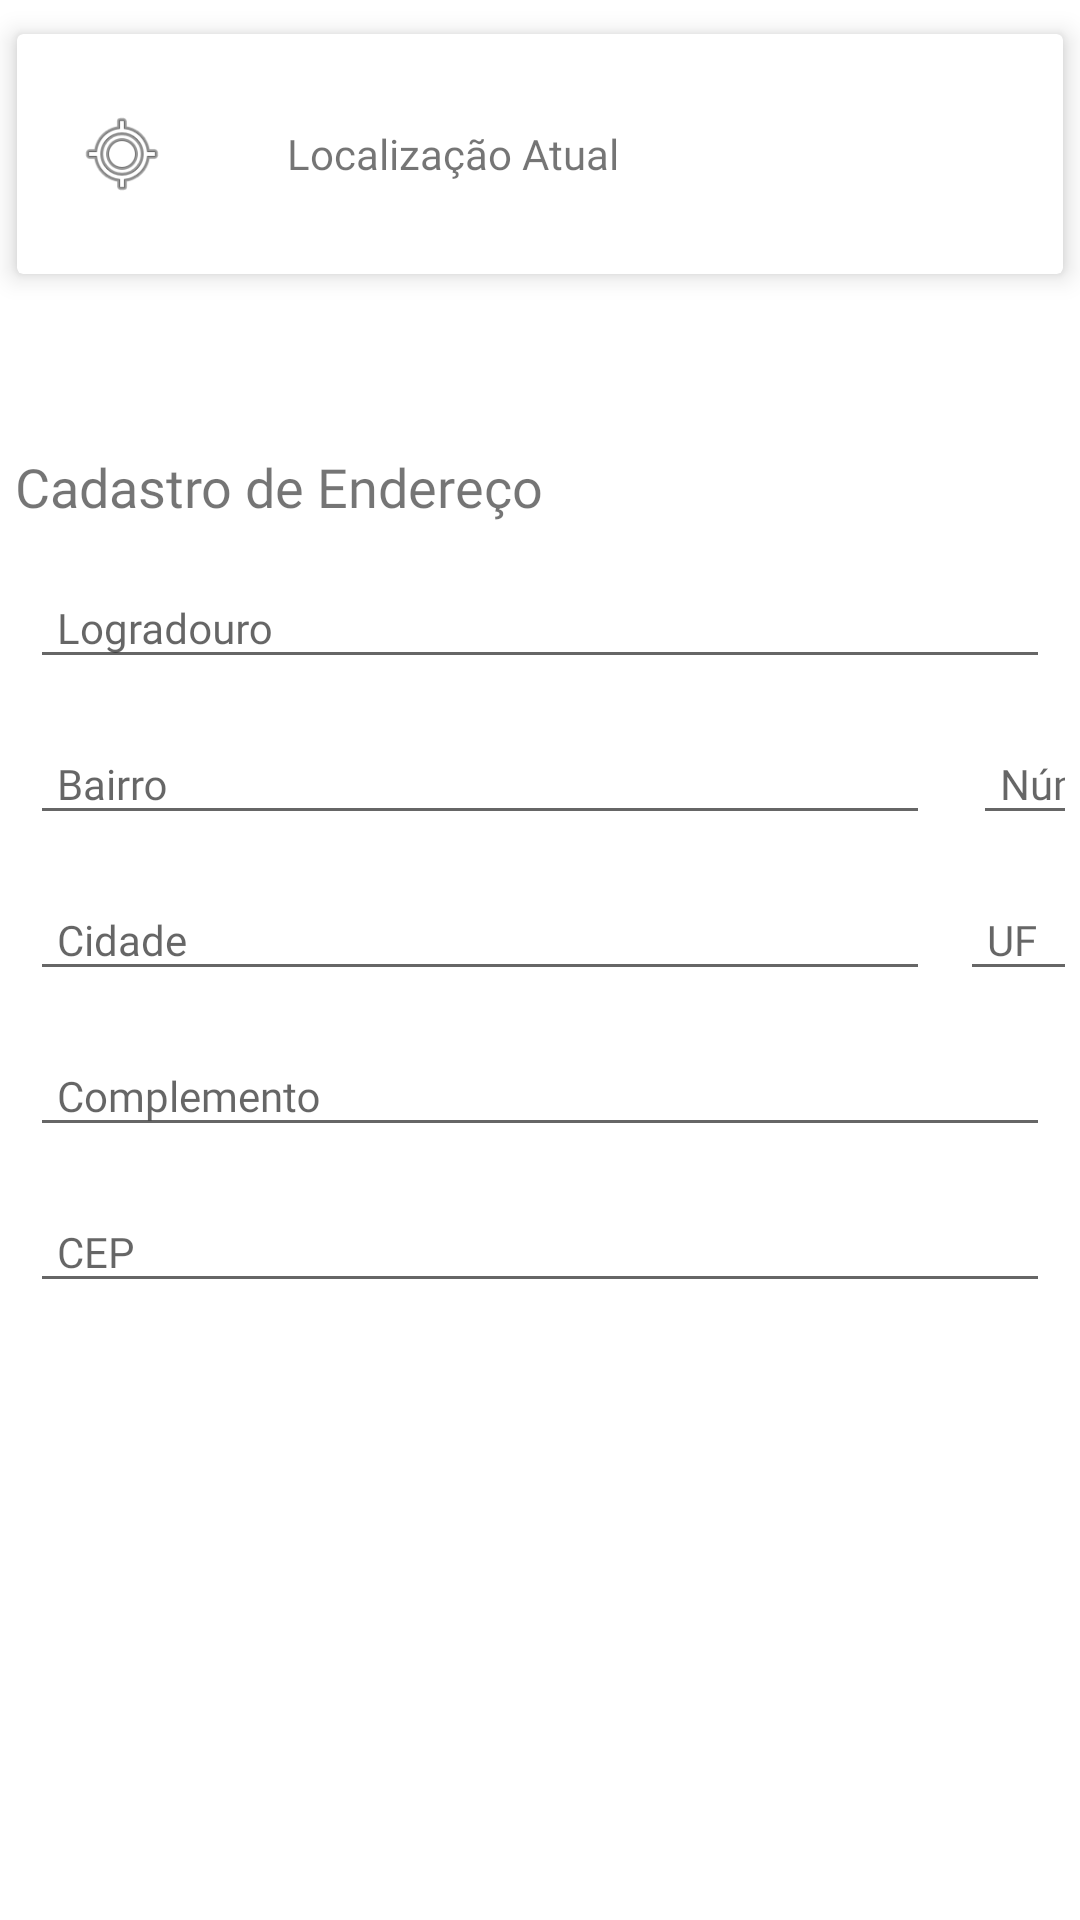

Screen size 1080*1920. Icon name, then its center in pixels as point (x, y):
mylocation: point (122, 154)
